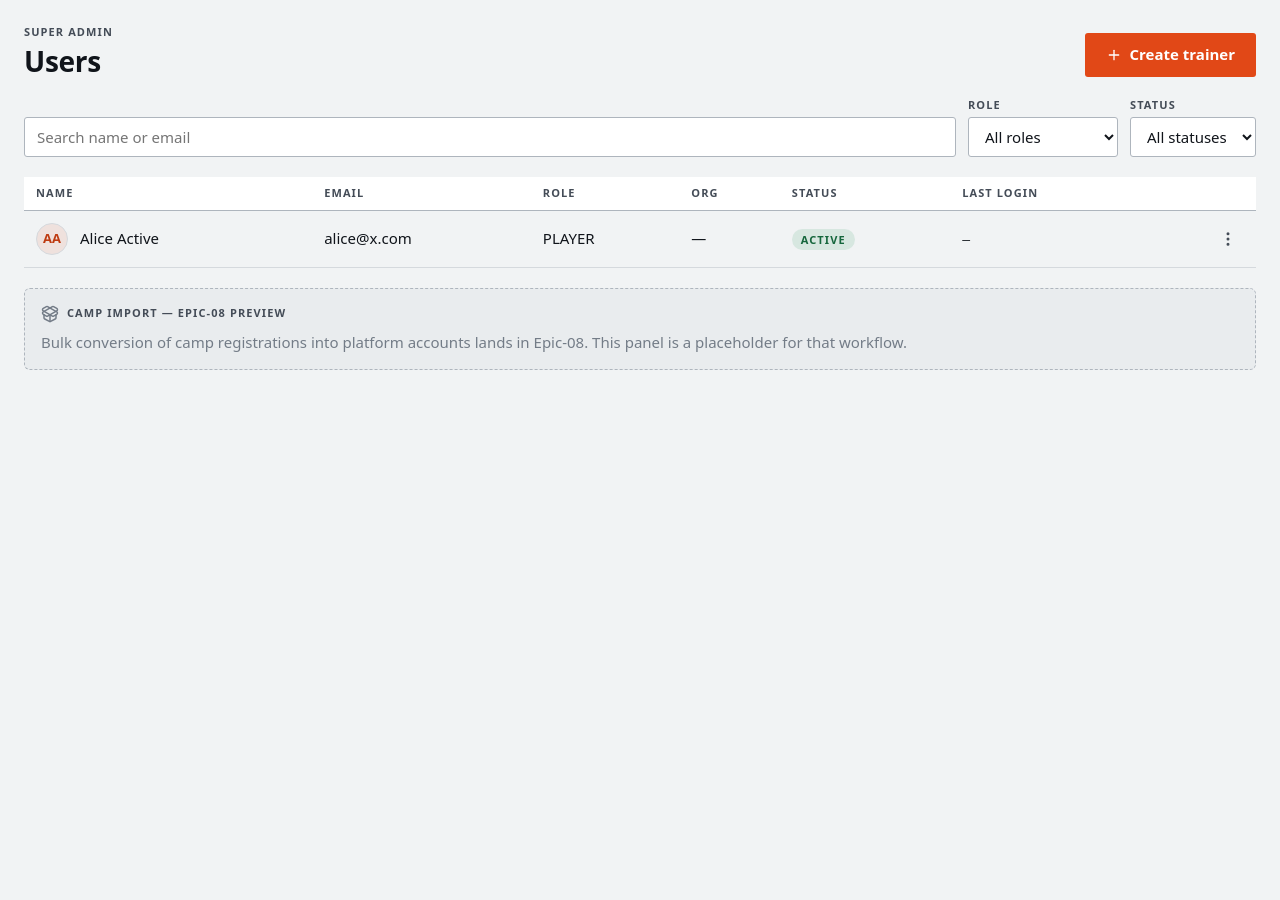
Test: UsersDirectory › gates GDPR delete on reason + typed email, then marks the row DELETED
The width and height of the screenshot is (1280, 900).
Expected: the text "Alice Active" is shown, [80,227,159,250]
Click the button named "actions for alice active". click: {"x": 1228, "y": 239}
box: [1212,223,1244,255]
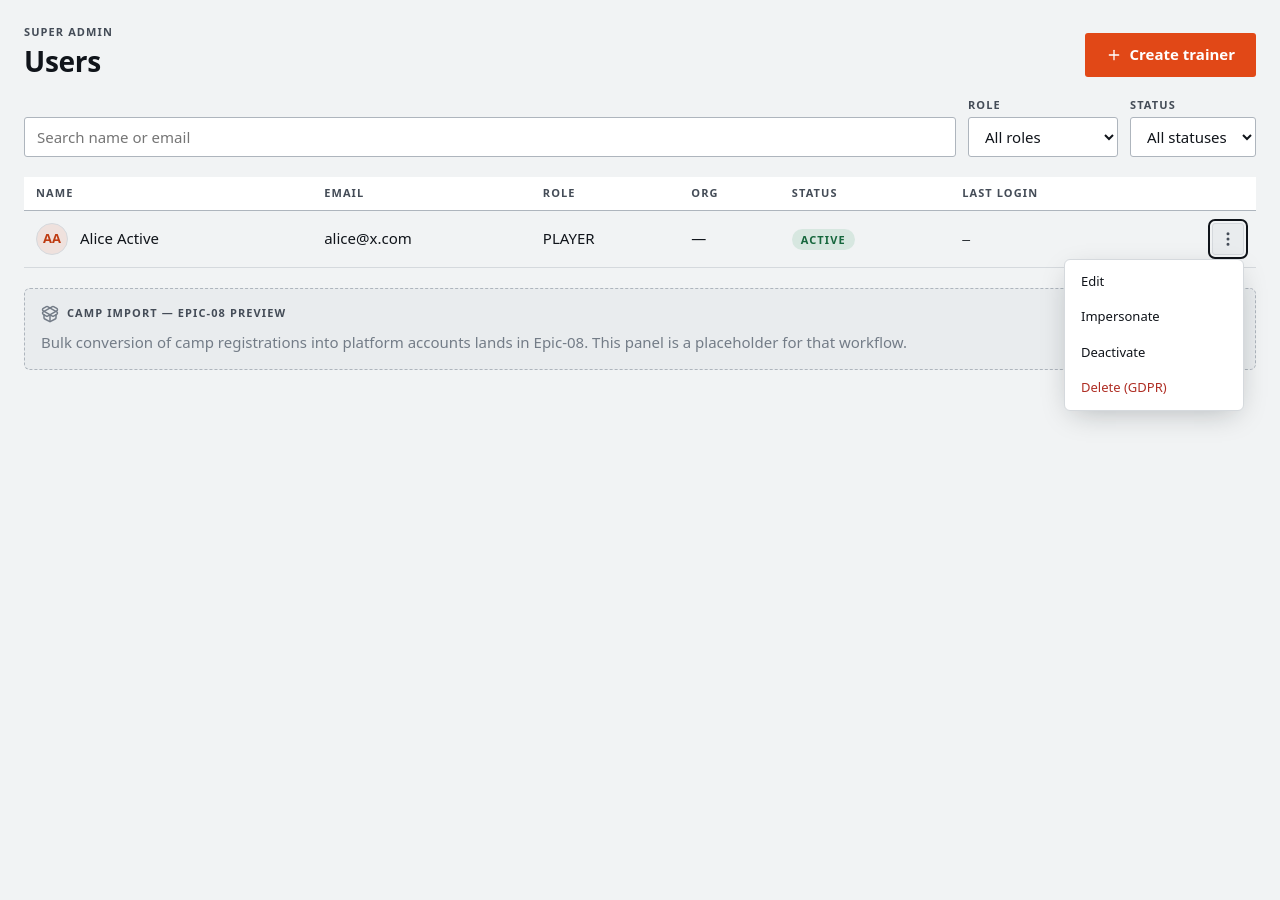
Click the menu item "Delete (GDPR)". click: {"x": 1154, "y": 388}
box: [1069,370,1239,406]
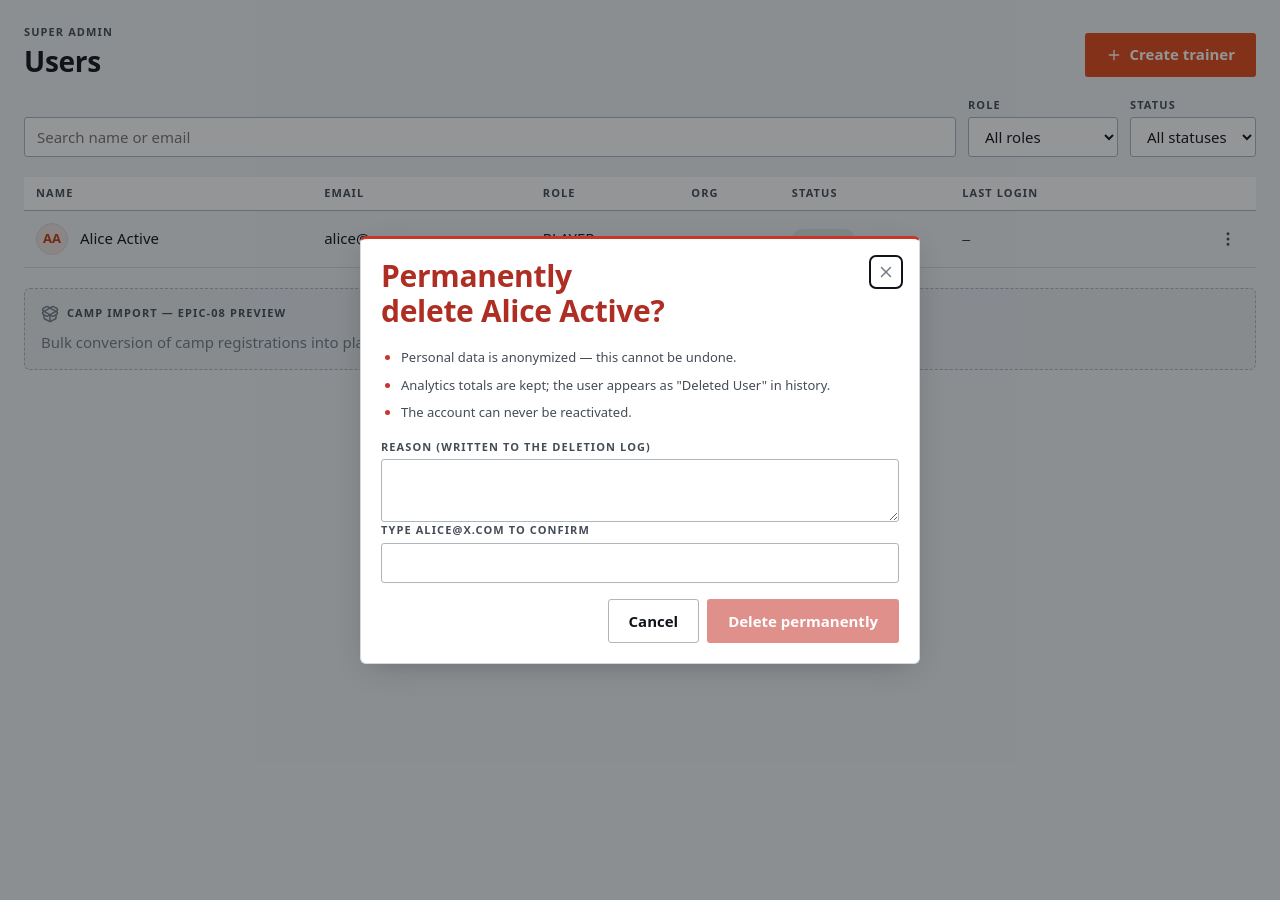
Result: the button "Delete permanently" is disabled at [707,599,899,643]
Type "User requested erasure" into the text box labelled "Reason (written to the deletion log)". click: {"x": 640, "y": 490}
box: [381,459,899,522]
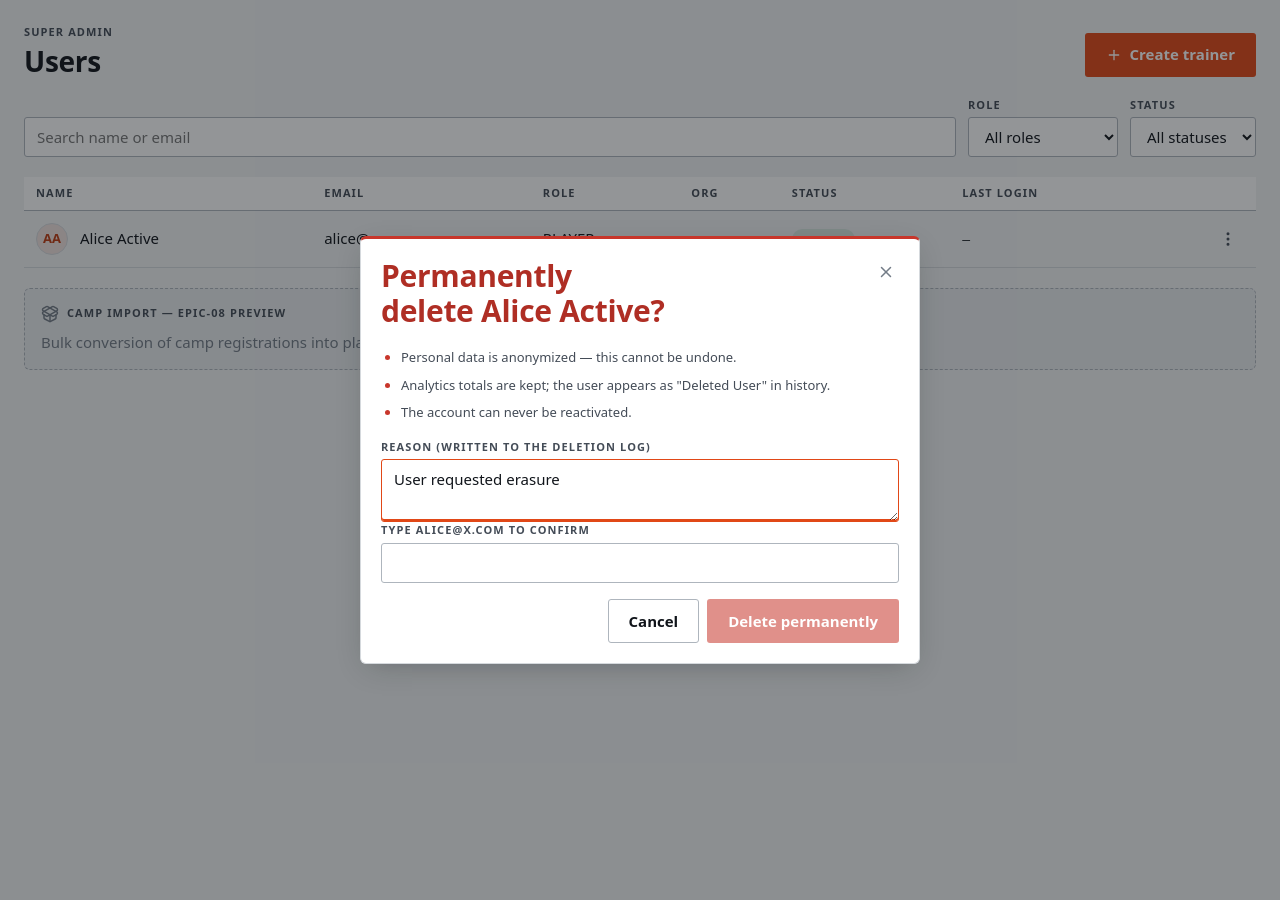
Type "wrong@x.com" into the field labelled "Type alice@x.com to confirm". click: {"x": 640, "y": 563}
box: [381,542,899,583]
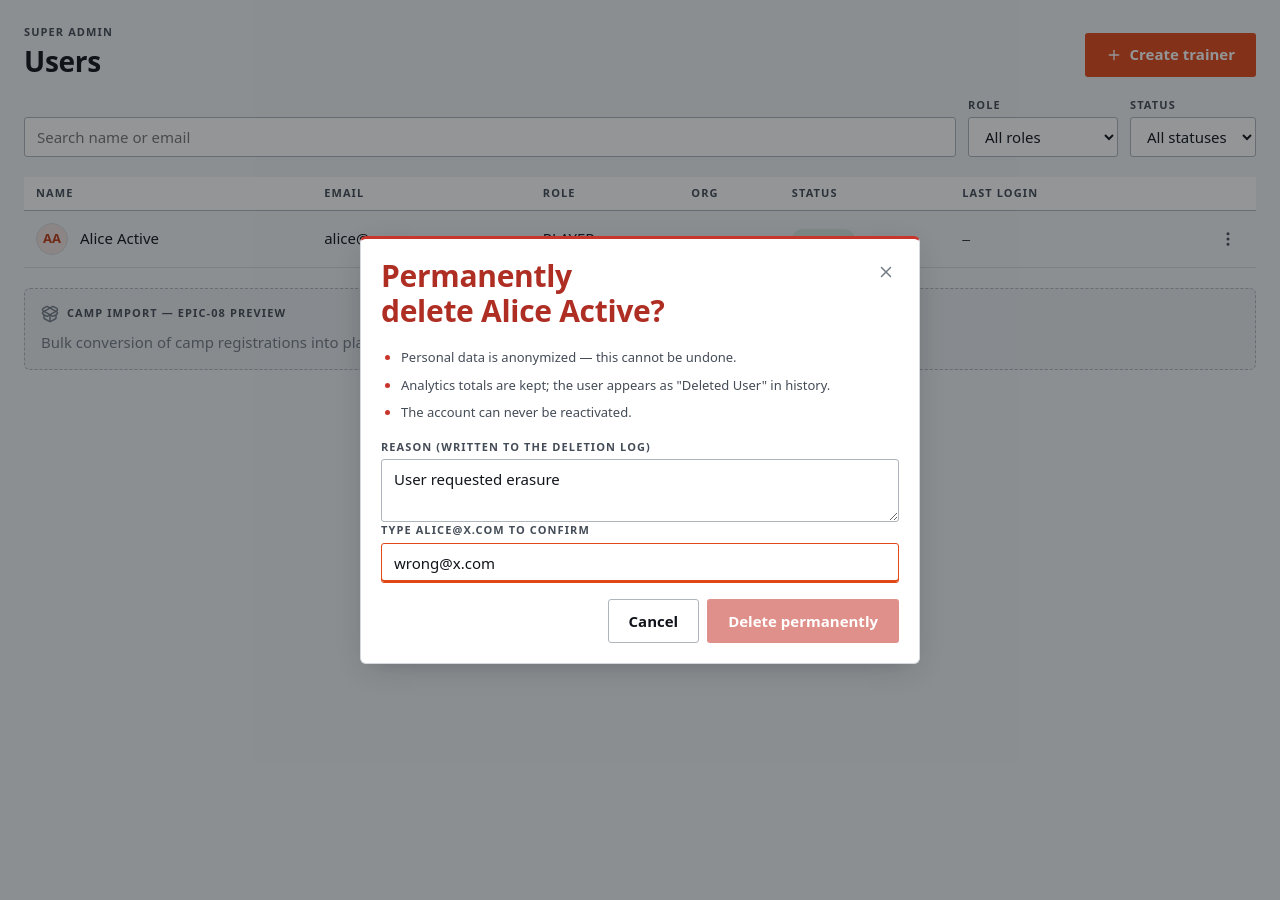
Result: the button "Delete permanently" is disabled at [707,599,899,643]
Replace the text in the field labelled "Type alice@x.com to confirm" with "alice@x.com". click: {"x": 640, "y": 563}
box: [381,542,899,583]
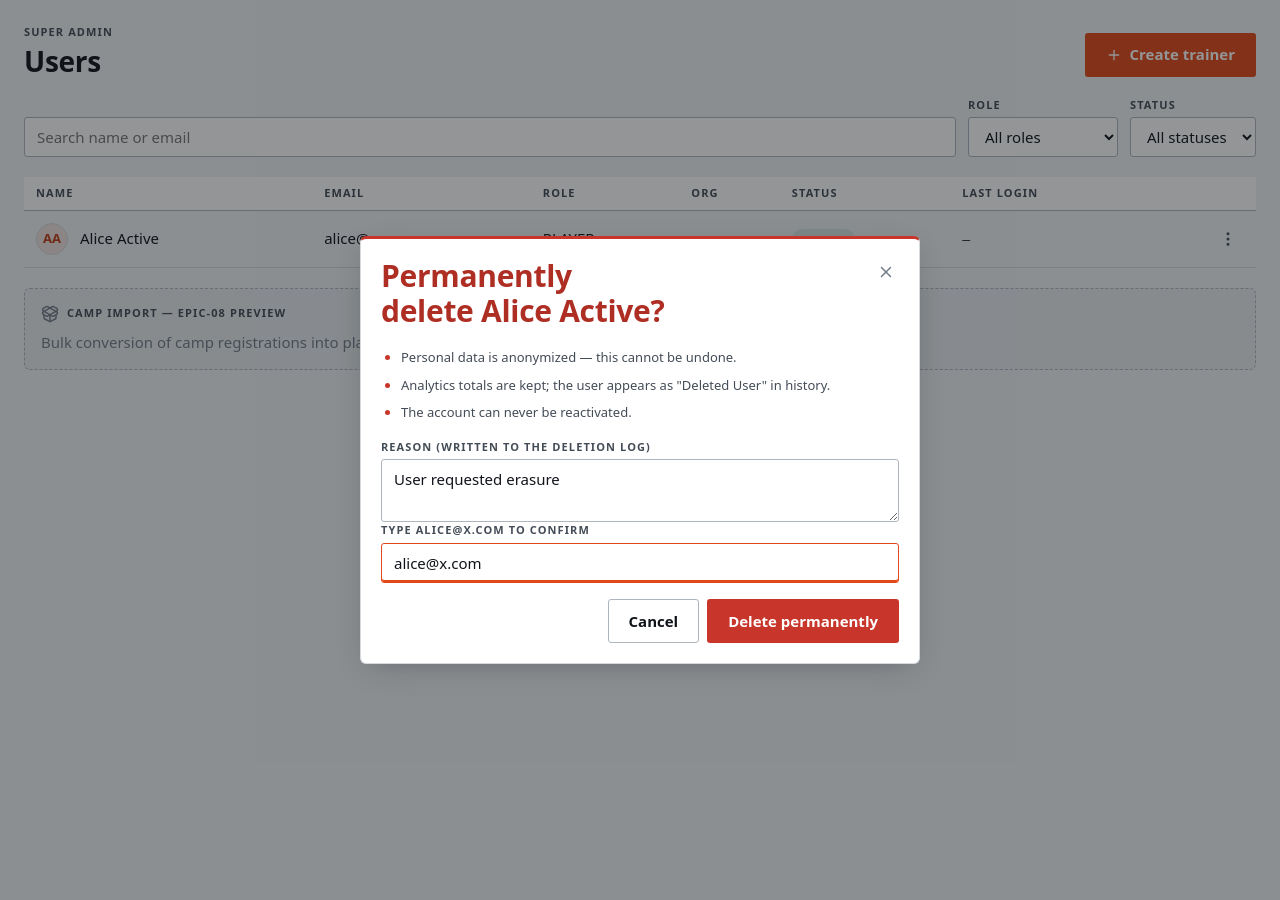
Result: the button "Delete permanently" is enabled
Click the button "Delete permanently". click: {"x": 803, "y": 621}
box: [707,599,899,643]
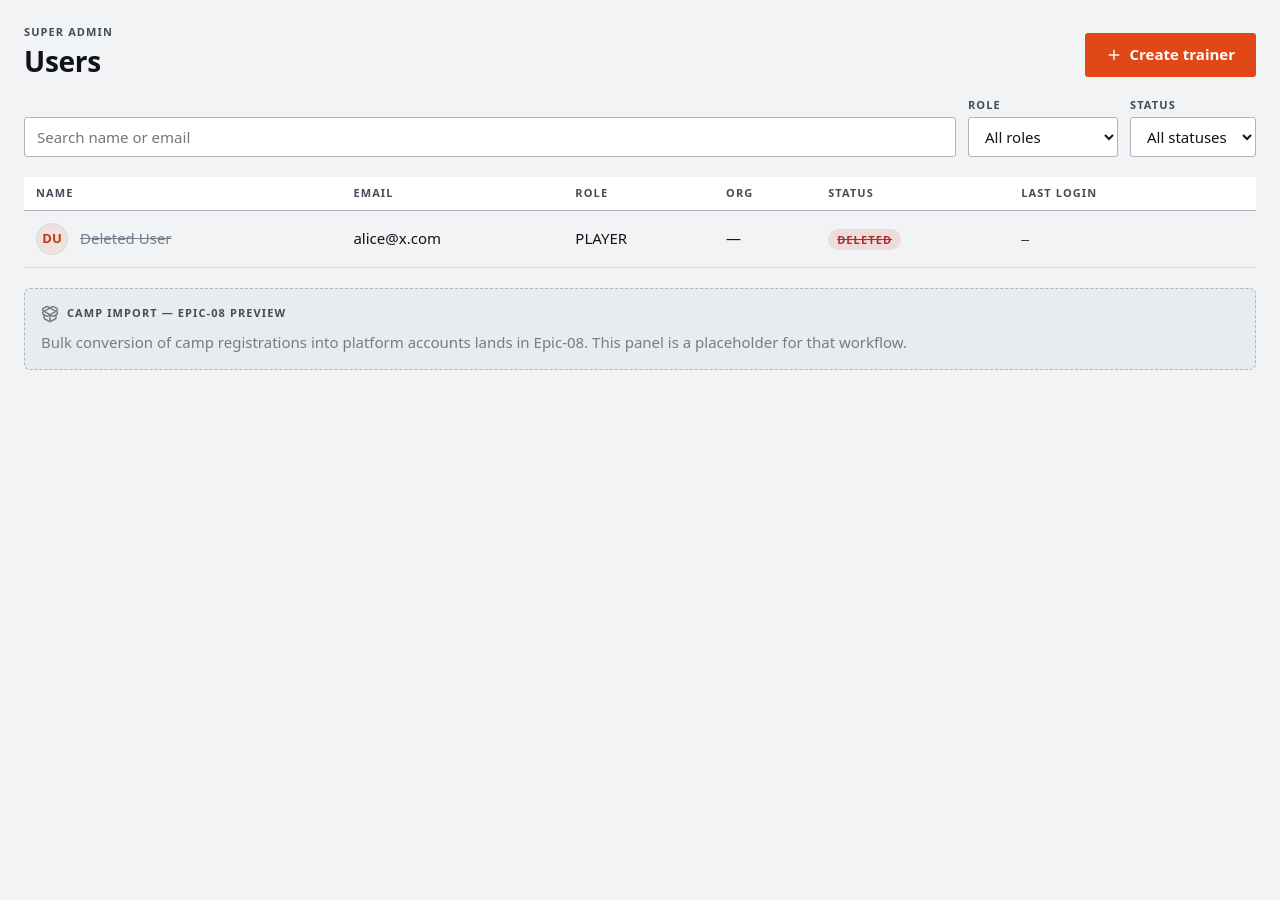
Result: the text "DELETED" is shown at [828,229,901,250]
